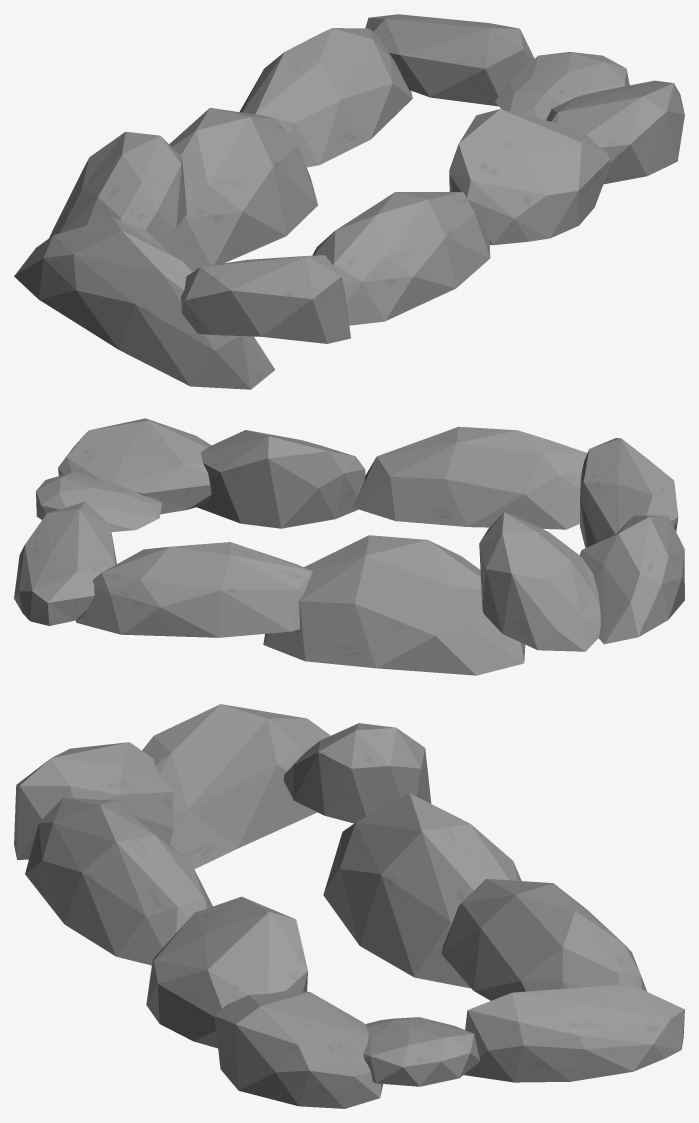
The model's file is Grave3.gltf.
3 renders of one model, top to bottom at view 1: azimuth 30°, elevation 25°; view 2: azimuth 150°, elevation 25°; view 3: azimuth 270°, elevation 25°, orthographic. The views are drawn at different scales.
Visible parts, largest first — view 1: Vlakgraf.001; view 2: Vlakgraf.001; view 3: Vlakgraf.001.
Boxes of the visible parts, box(x1,y1,x2,y2) form: Vlakgraf.001: box(14, 14, 684, 389); Vlakgraf.001: box(14, 418, 684, 675); Vlakgraf.001: box(14, 704, 684, 1108).
Bounding box in the file's own units: 5.38 × 1.2 × 4.35.
4 materials, 4 textured.
